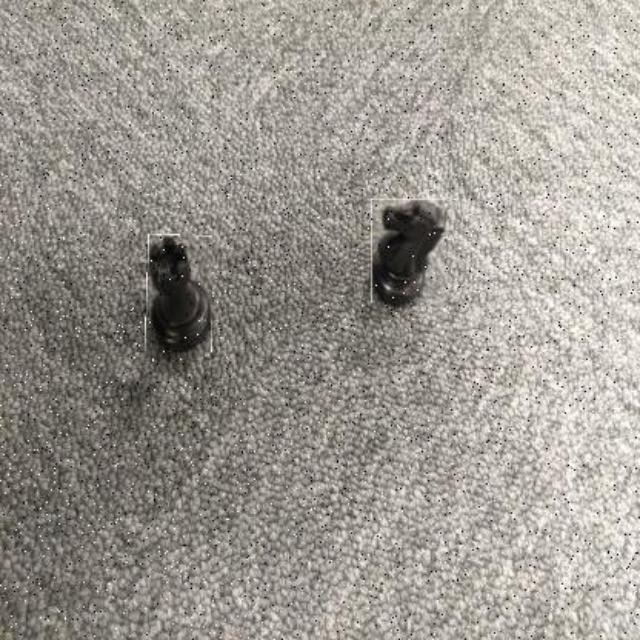black-knight: (370, 199, 445, 305)
black-rook: (145, 236, 212, 354)
